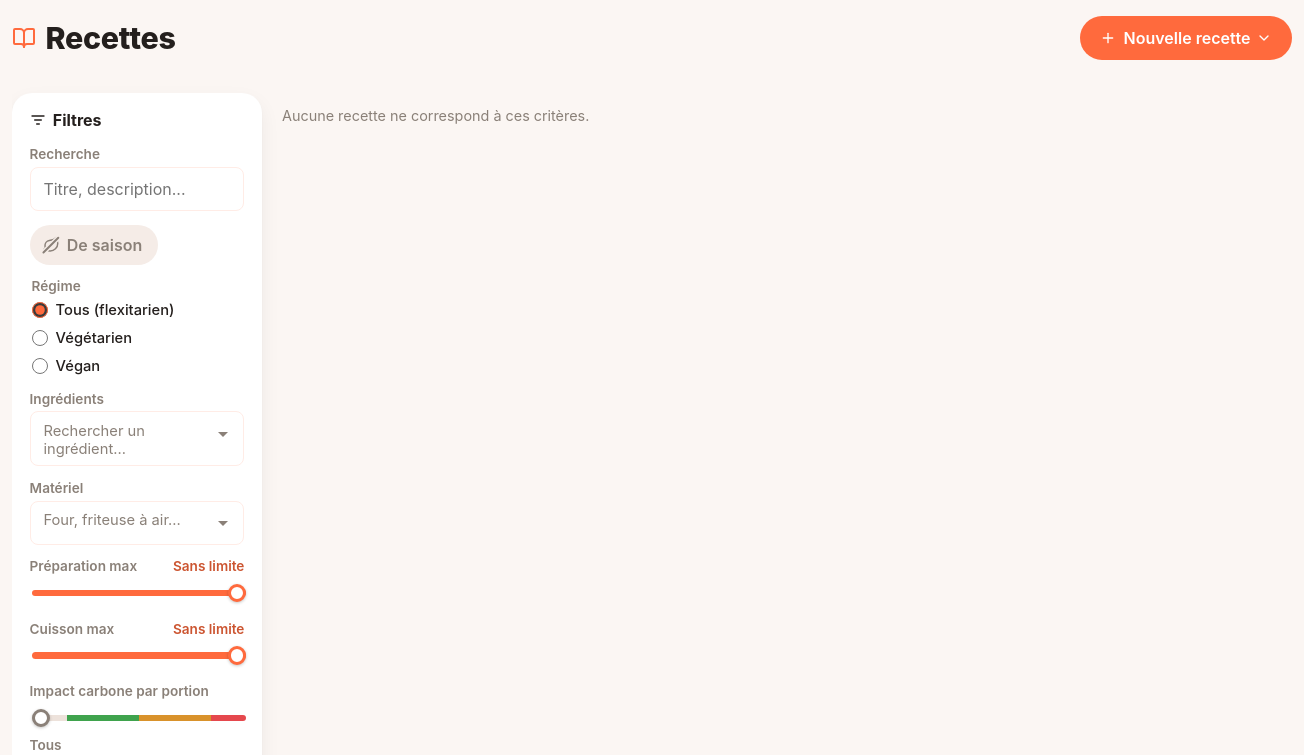
Test case: RecipeListView import › shows an error message when the scrape fails
Click the button "Nouvelle recette".
click(1186, 38)  # box [1080, 16, 1292, 60]
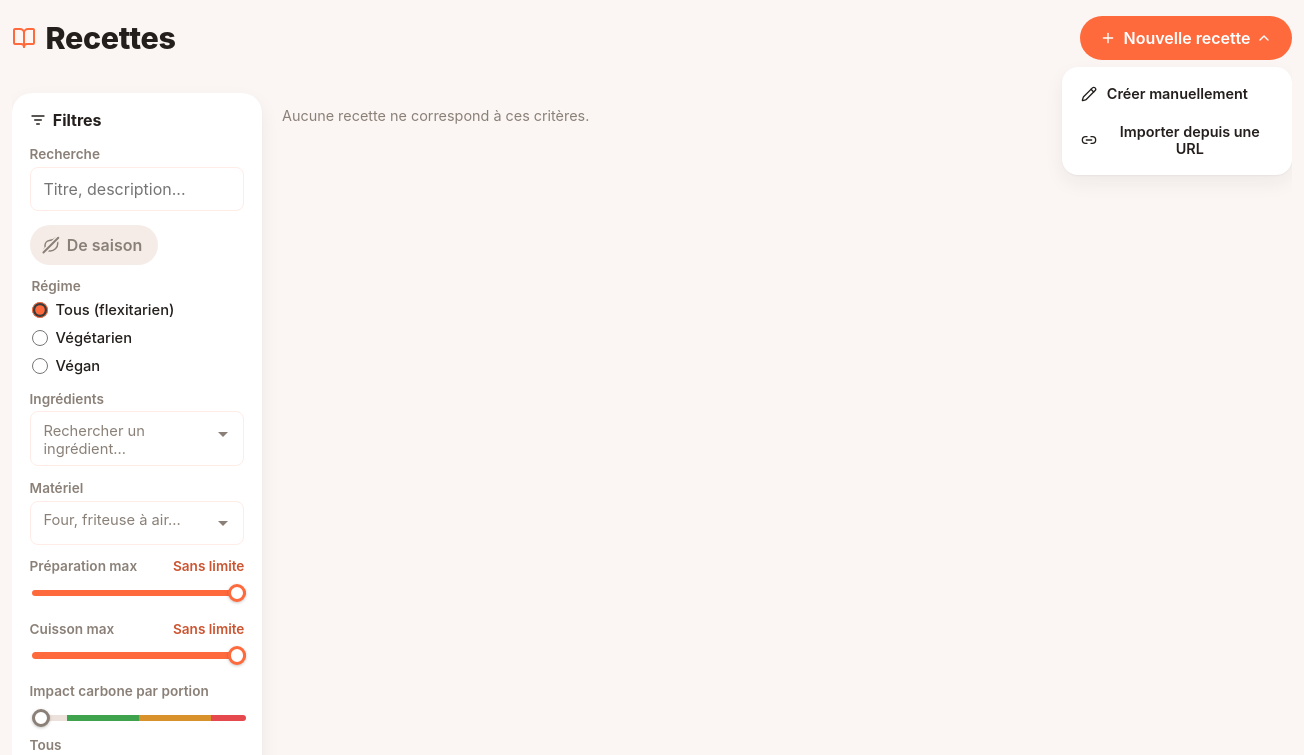
Click the button "Importer depuis une URL".
click(1177, 140)  # box [1072, 114, 1282, 166]
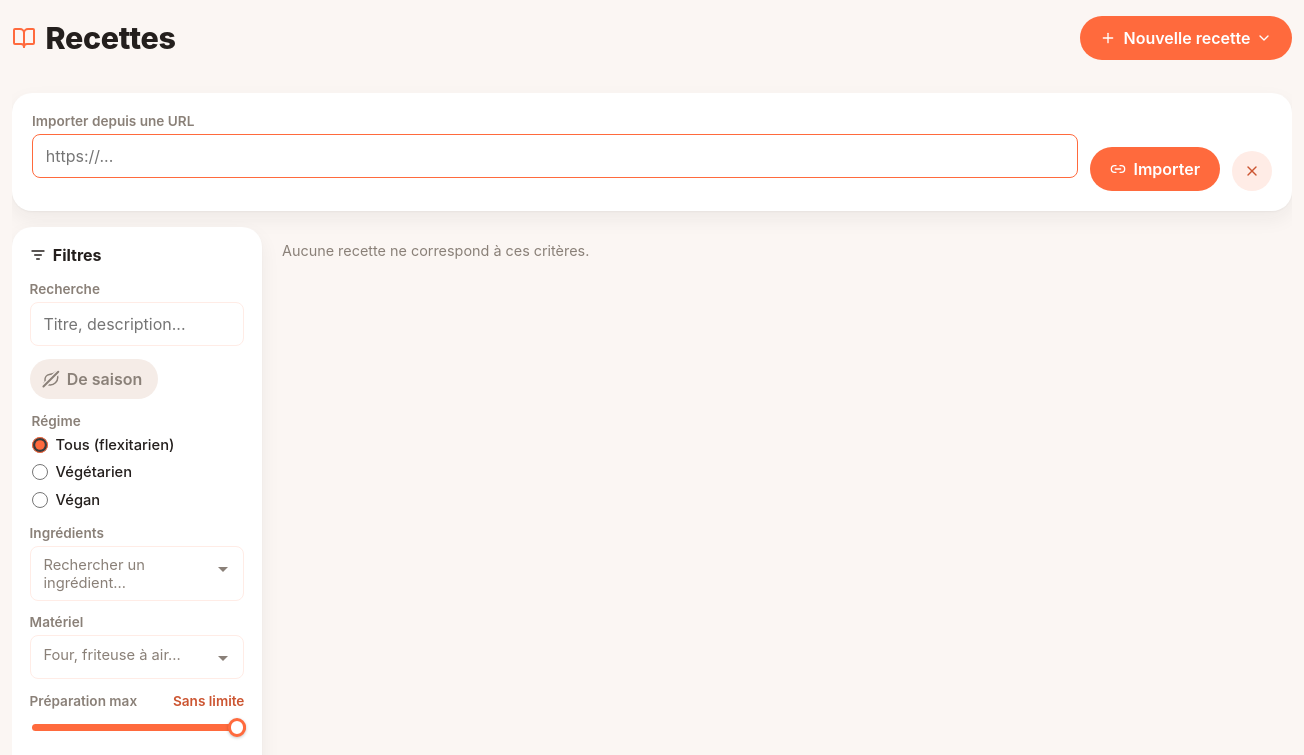
Type "https://example.com/unsupported" into the field with id "import-url".
click(555, 156); type("https://example.com/unsupported")  # box [32, 134, 1078, 178]
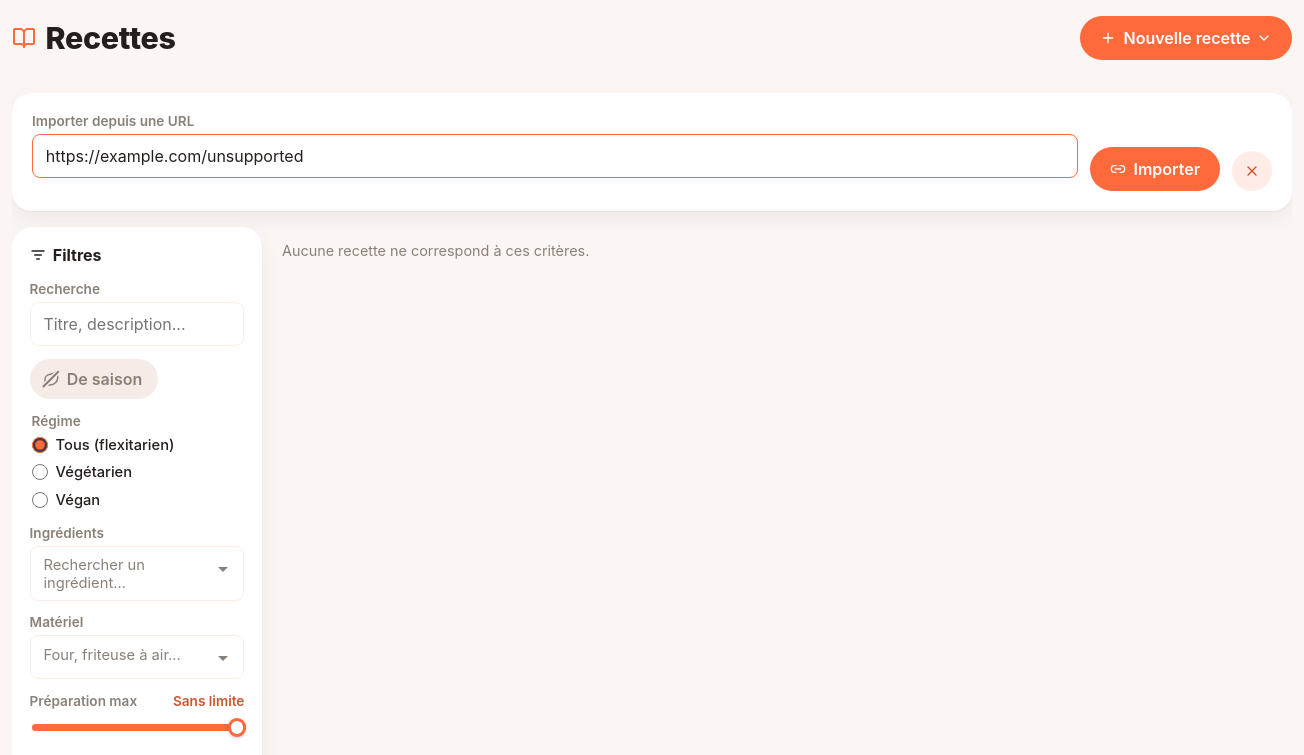
Submit the form, box [32, 113, 1272, 191]
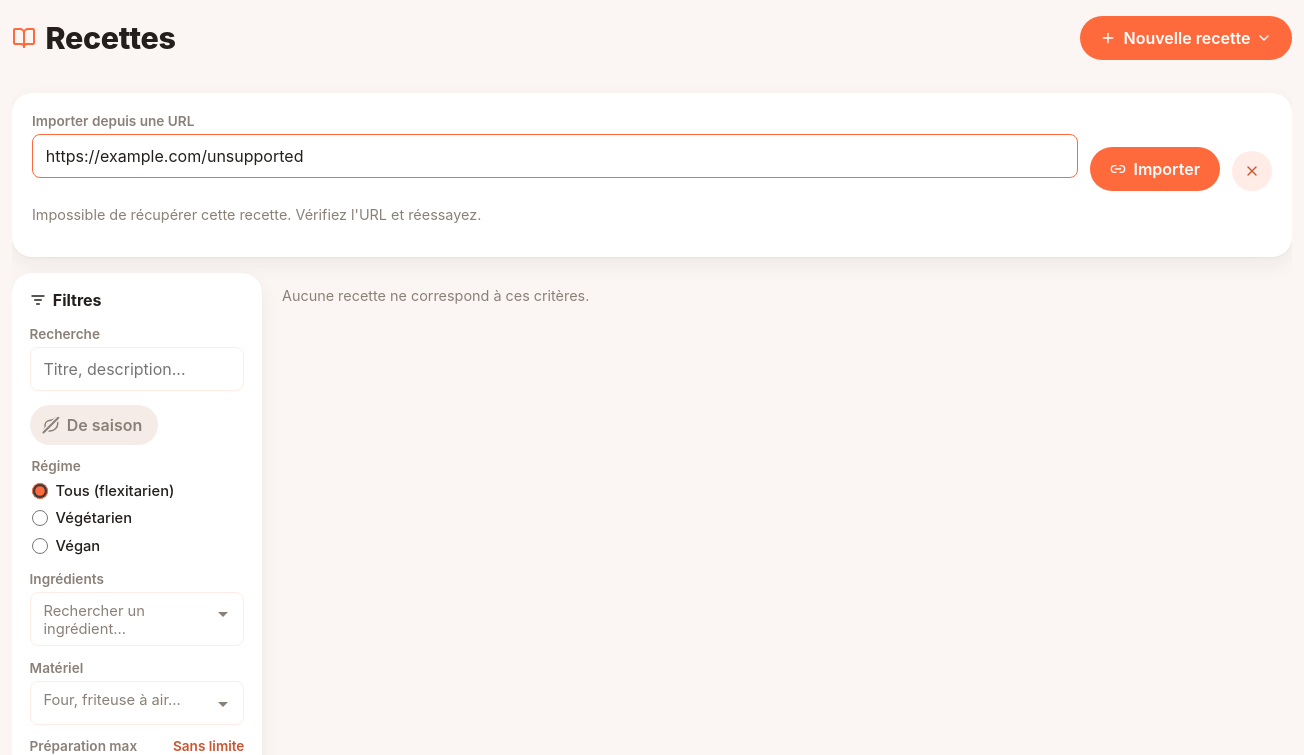
Expected: the text "Impossible de récupérer cette recette" is shown, [32, 206, 481, 222]
